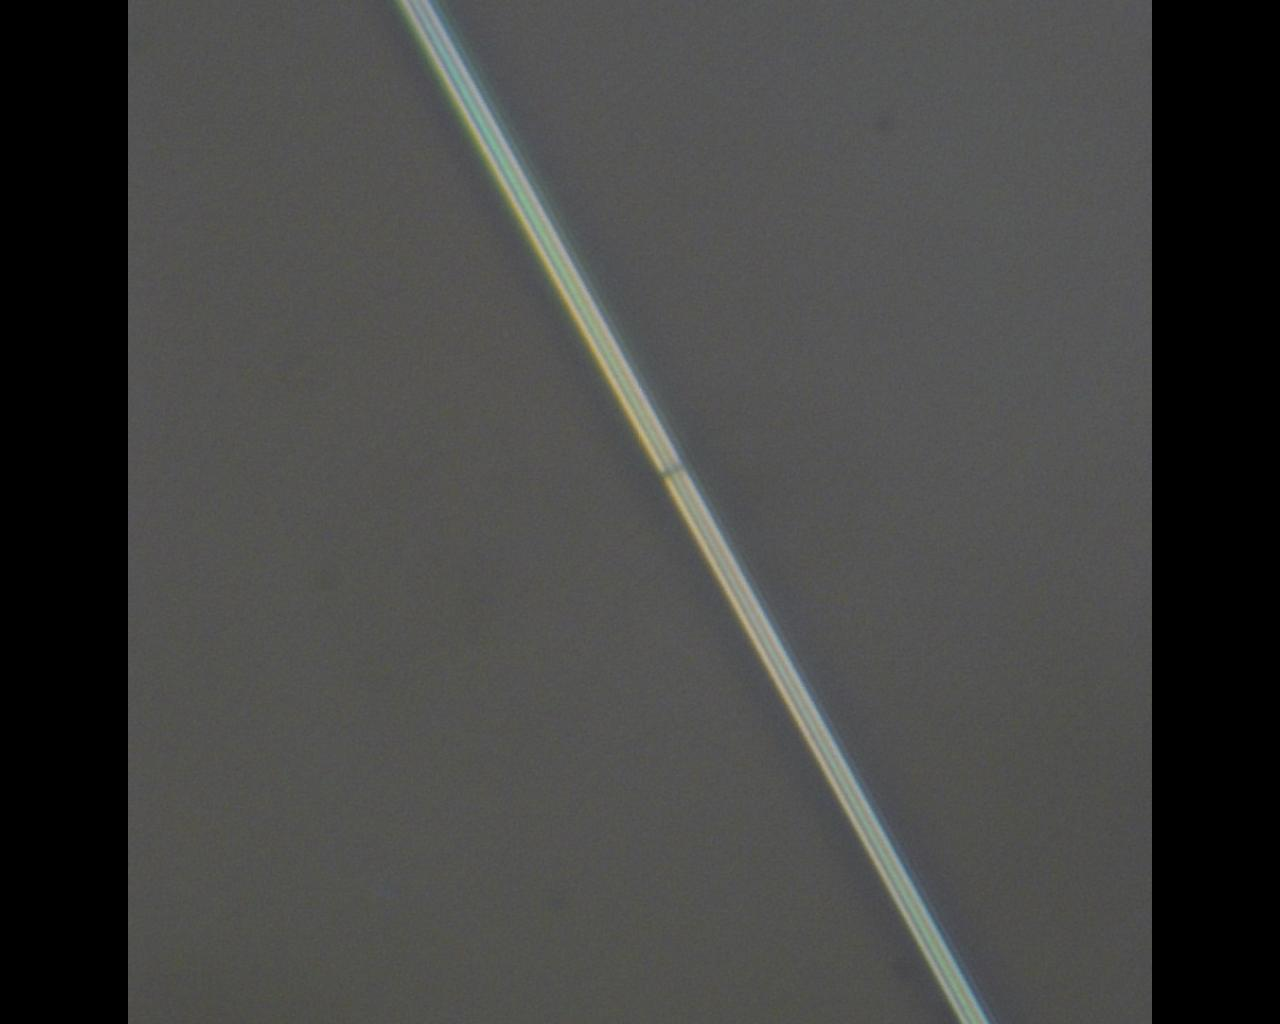fiber: (16, 357, 883, 443), (0, 847, 767, 866)
